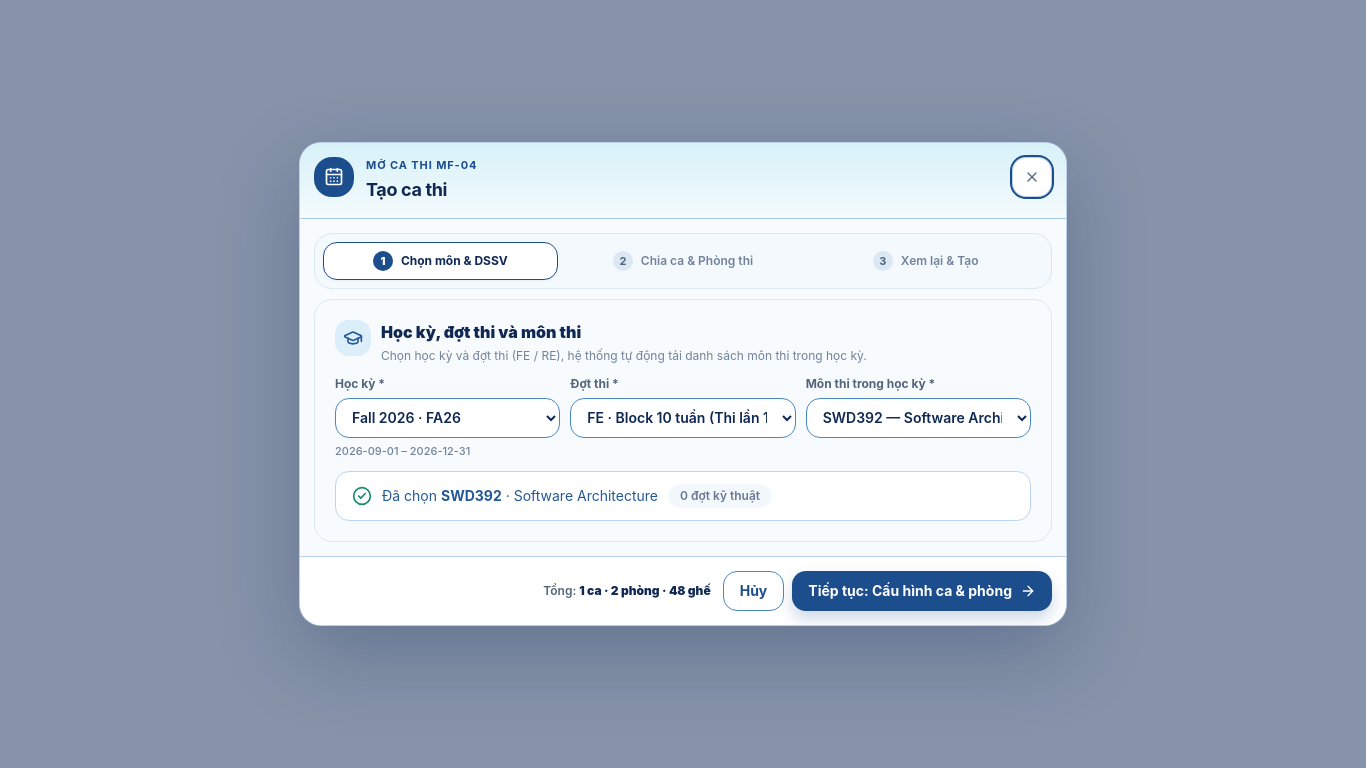
Test: EO Shift Staff & Time UX Helpers › SingleShiftDialog blocks duplicate examiner across parallel rooms in the same shift
The width and height of the screenshot is (1366, 768).
What coordinates should you click on to do the following:
click the button "Tiếp tục: Cấu hình ca & phòng"
I would click on:
 (922, 591)
Its box is x1=792 y1=571 x2=1052 y2=611.
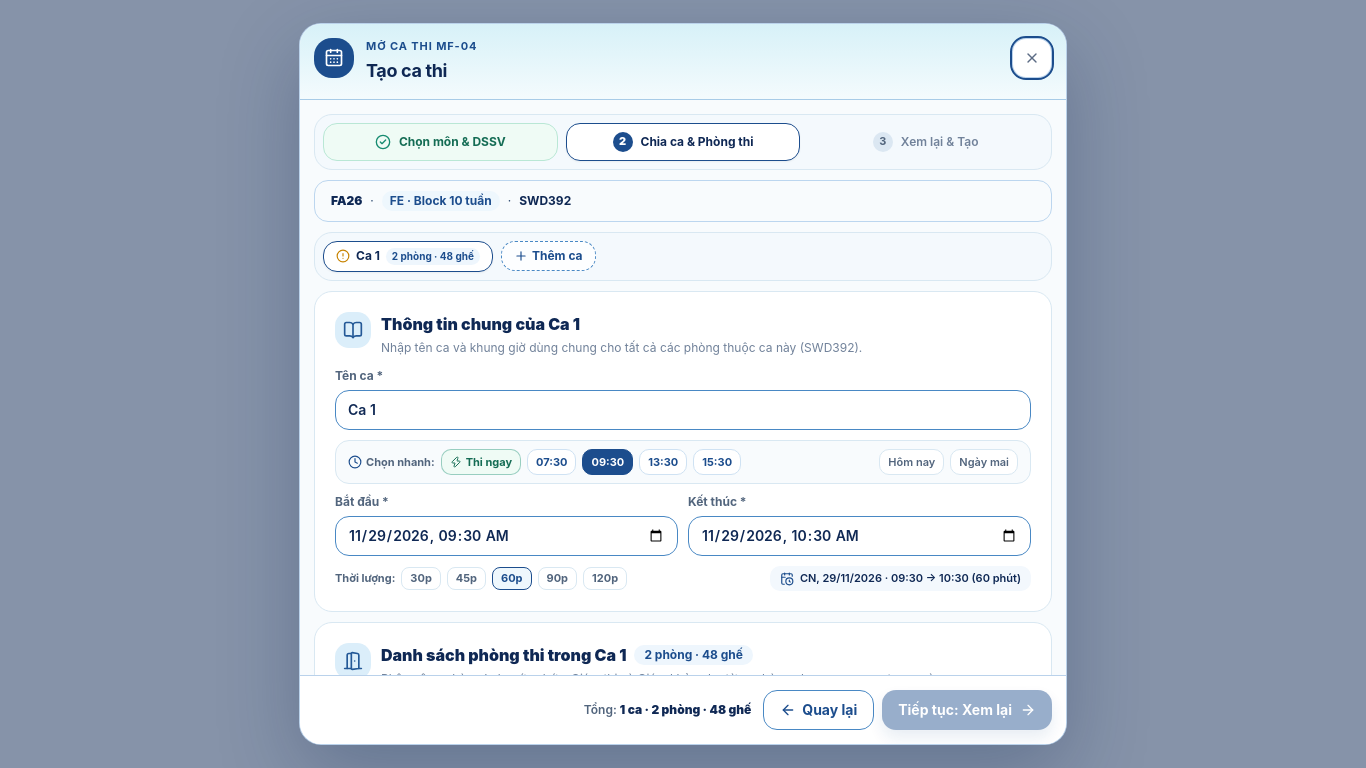
Check: the button "Tiếp tục: Xem lại" is disabled, box x1=882 y1=690 x2=1052 y2=730
